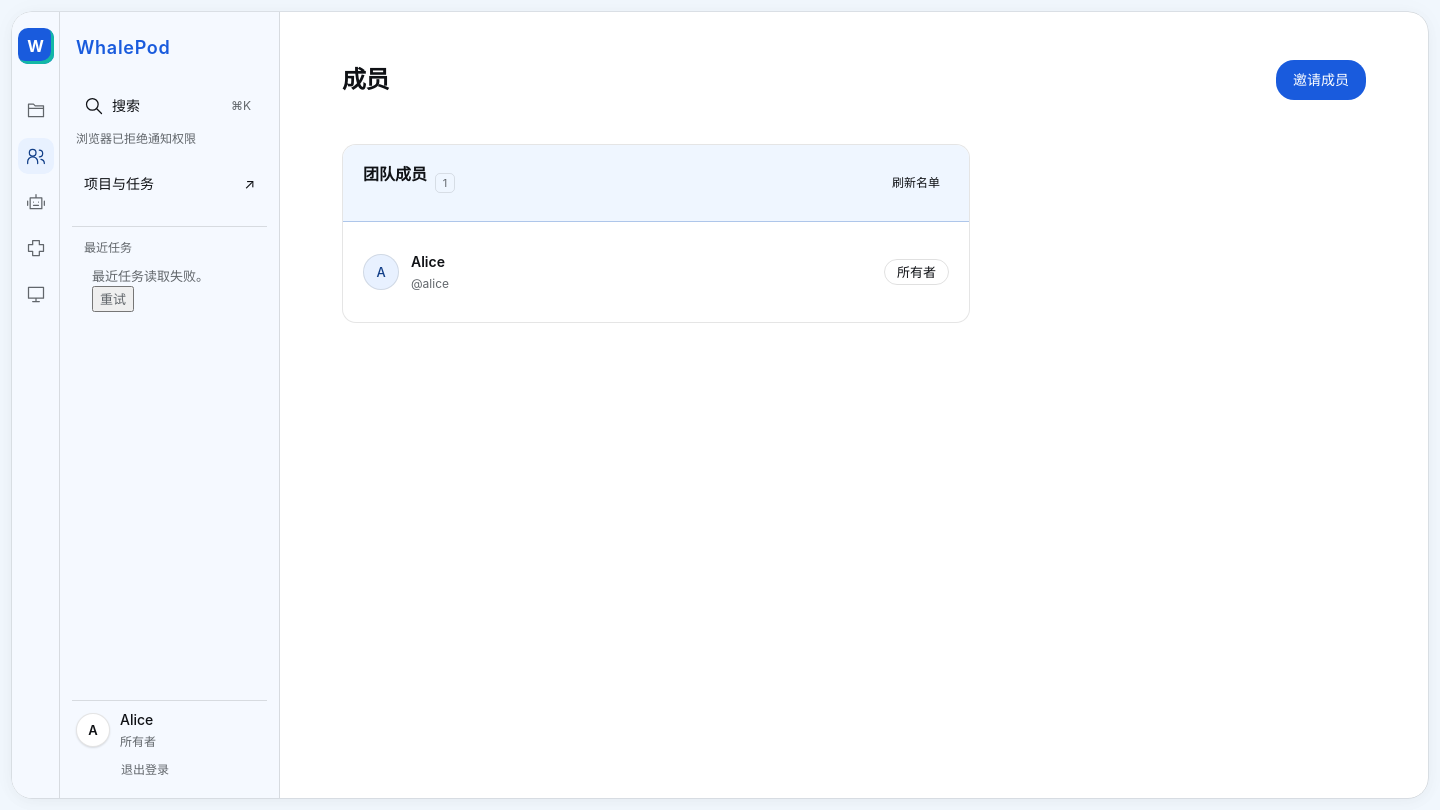
Test: #158 契约面：键盘可达 + aria 语义 › Space 也能打开（原生 button 行为）
Click the button "邀请成员". click: [1321, 80]
box: [1276,60,1366,100]
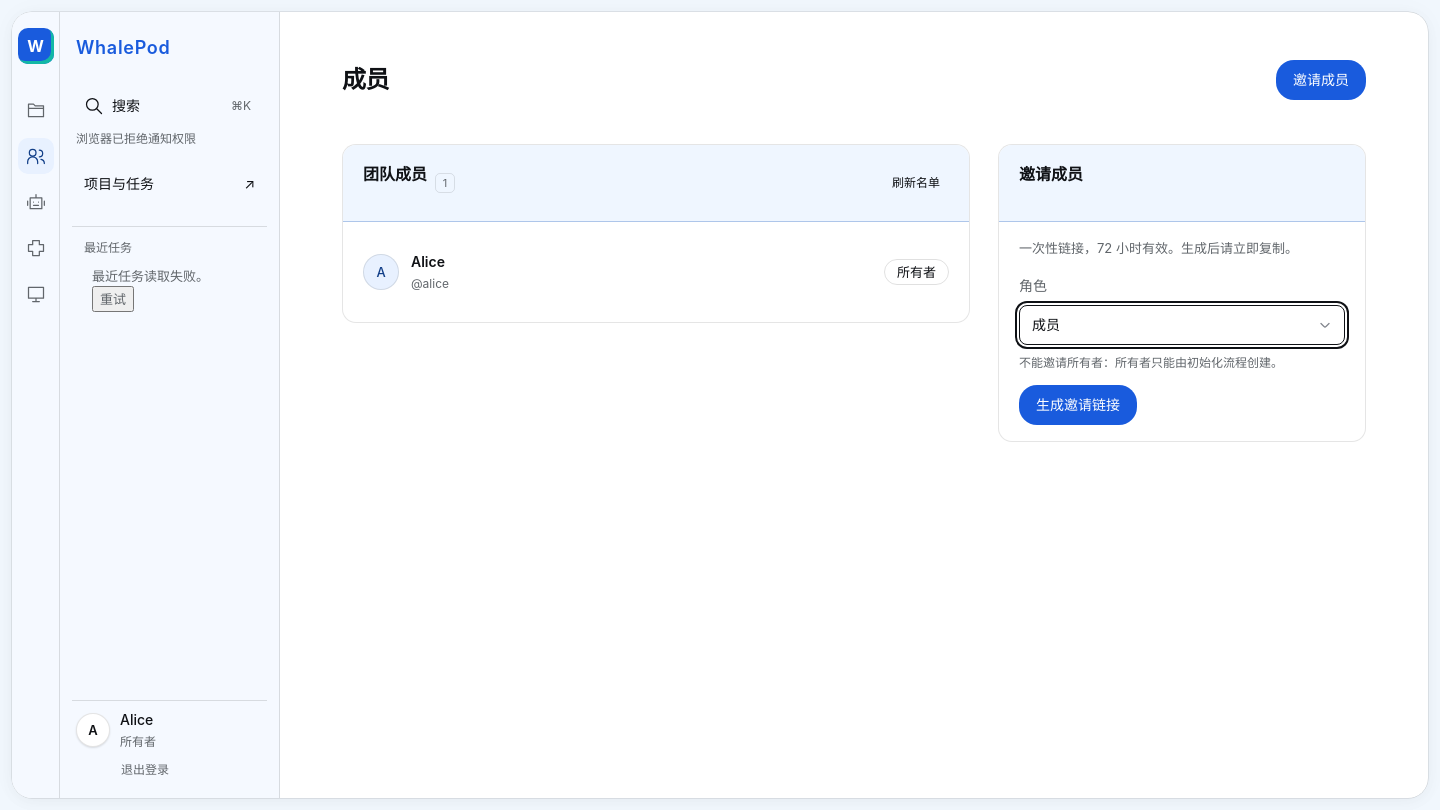
Type keys " "
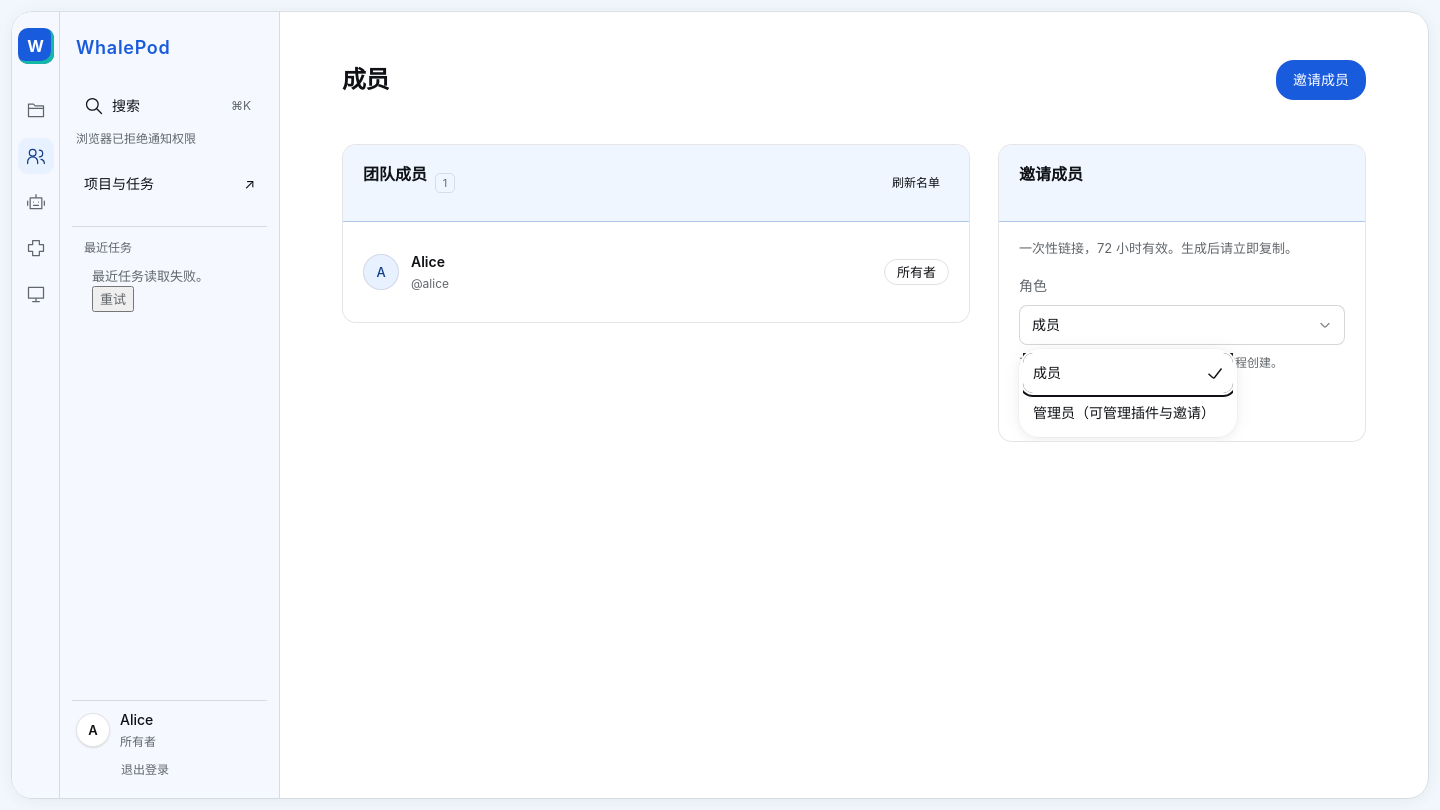
Expected: the menu is shown, [1019,349,1237,437]
